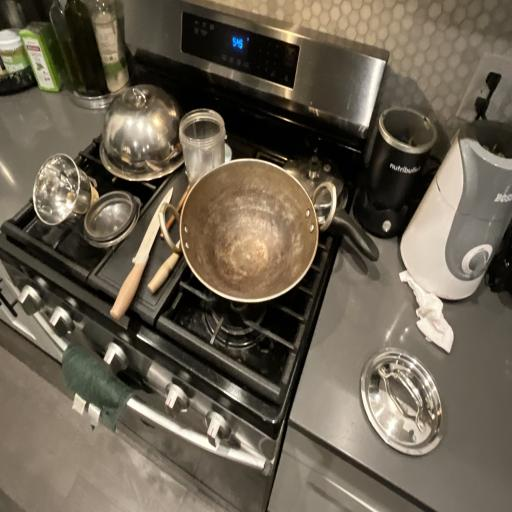Pan: (170, 154, 349, 303)
Stove: (0, 31, 357, 483)
knife: (103, 170, 181, 324)
